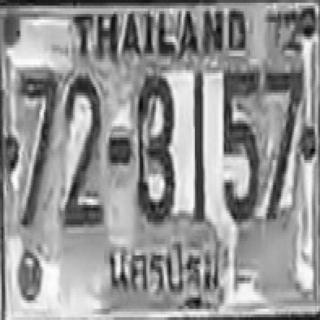N01: (191, 70, 204, 222)
N02: (62, 73, 102, 224)
N03: (136, 72, 175, 220)
N05: (221, 66, 260, 220)
N07: (18, 69, 58, 226), (265, 66, 304, 220)
P28: (106, 236, 224, 311)
